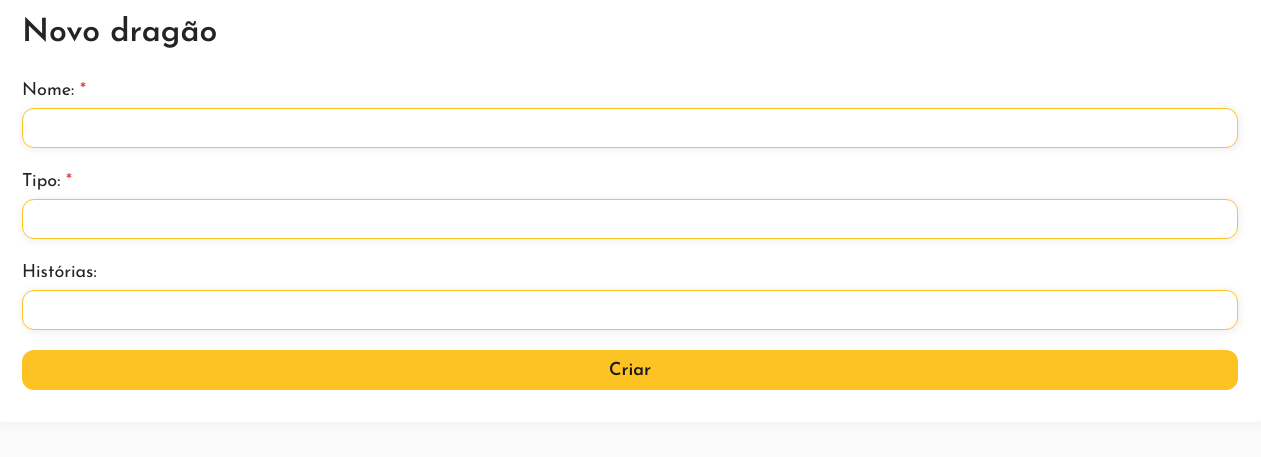
Test: DragonForm › Create form › show error when name and type are empty
Click the button "Criar".
click(630, 370)  # box [22, 350, 1238, 390]
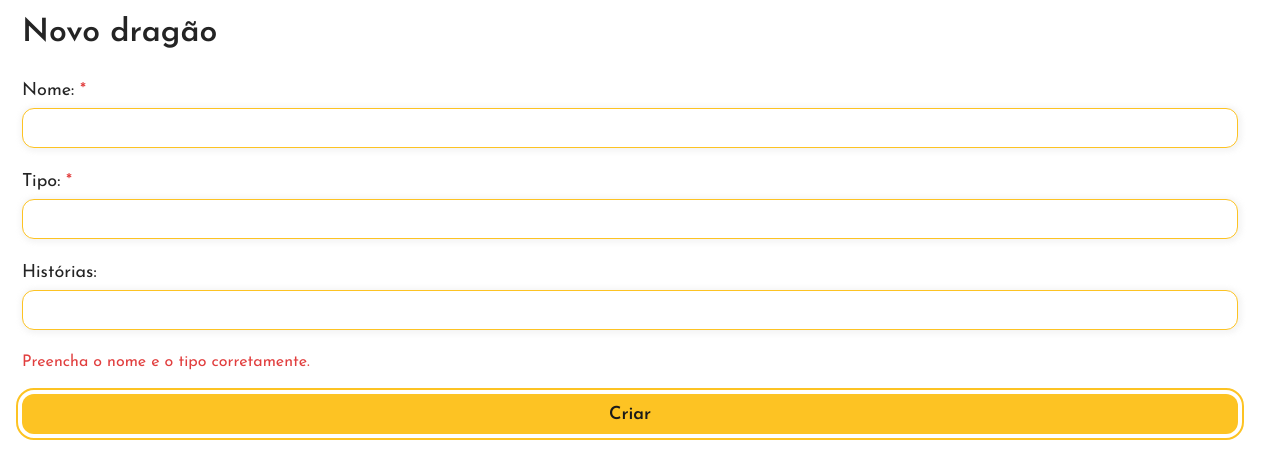
Now the text "Preencha o nome e o tipo corretamente." is shown, box [22, 354, 310, 370]
